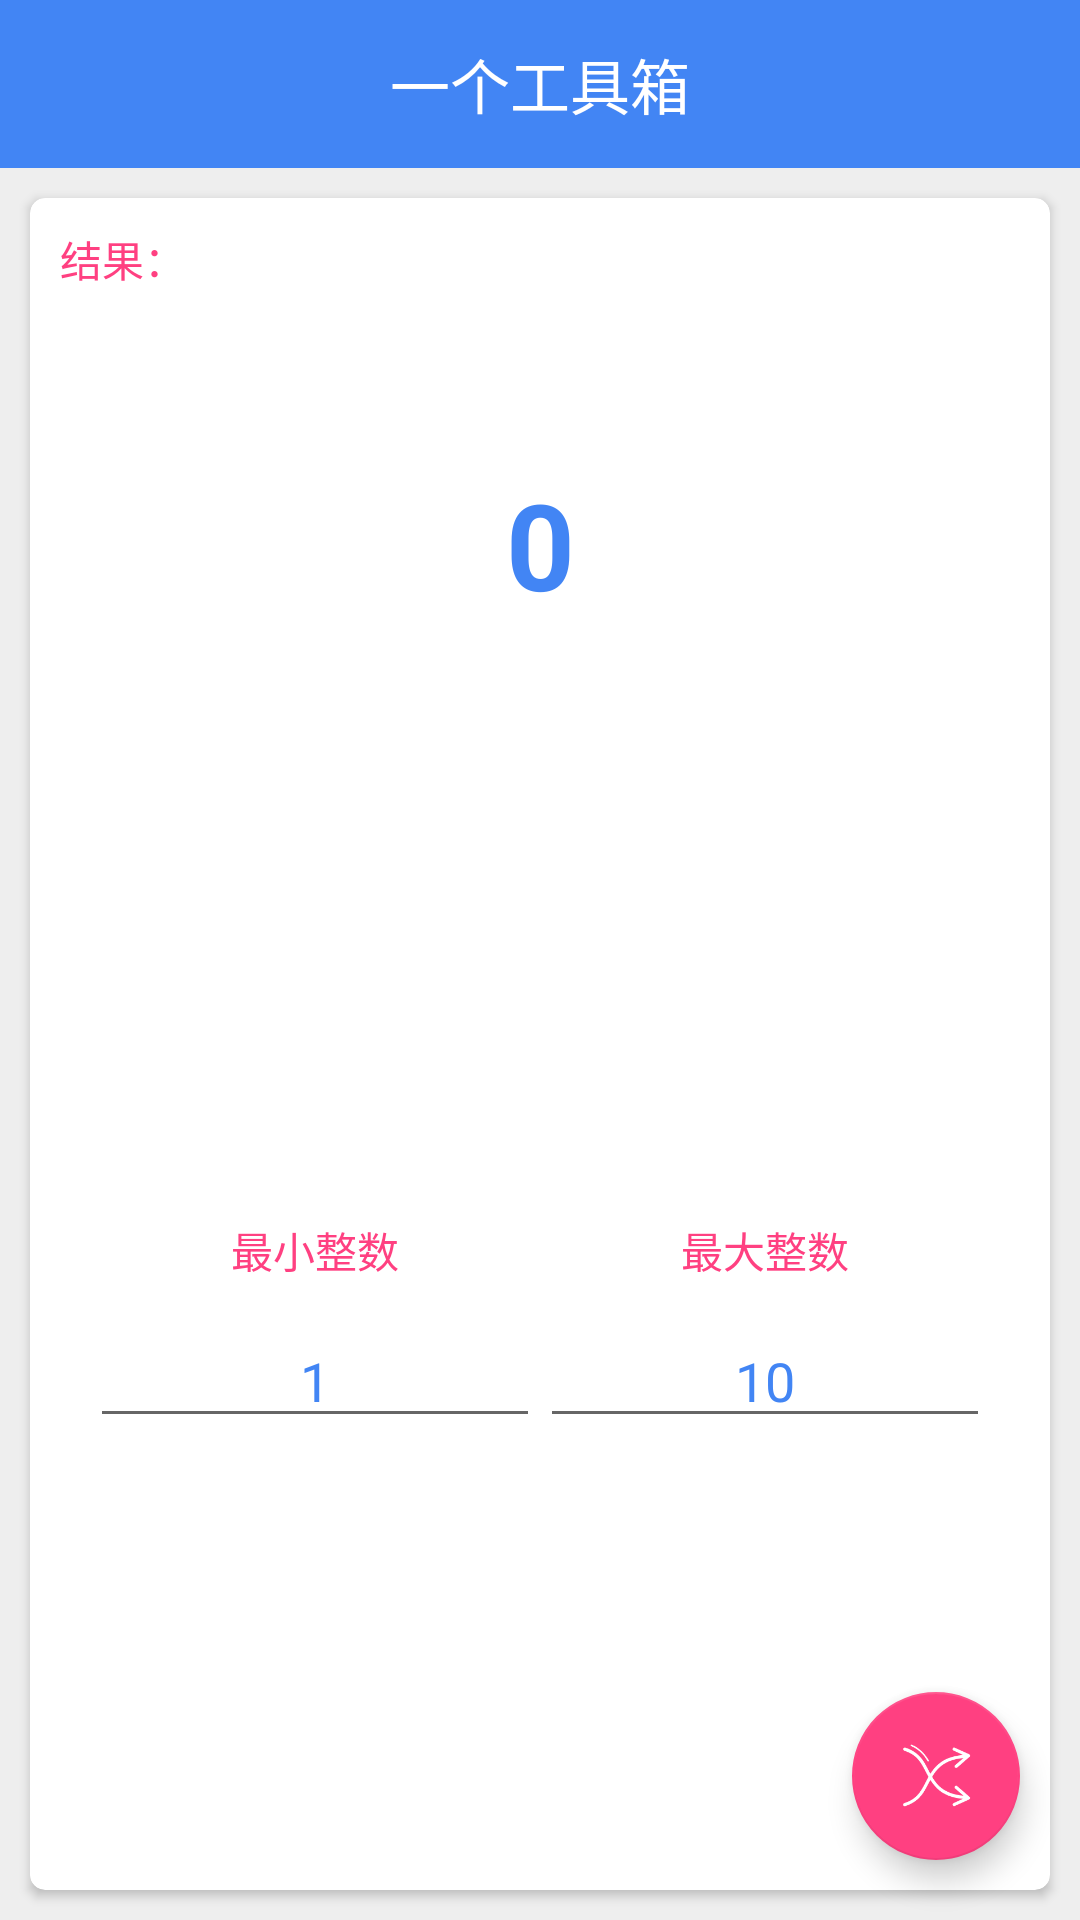

Where to tap for icons on this 1080px×1920px app screen, as (x,y):
random: (936,1776)
